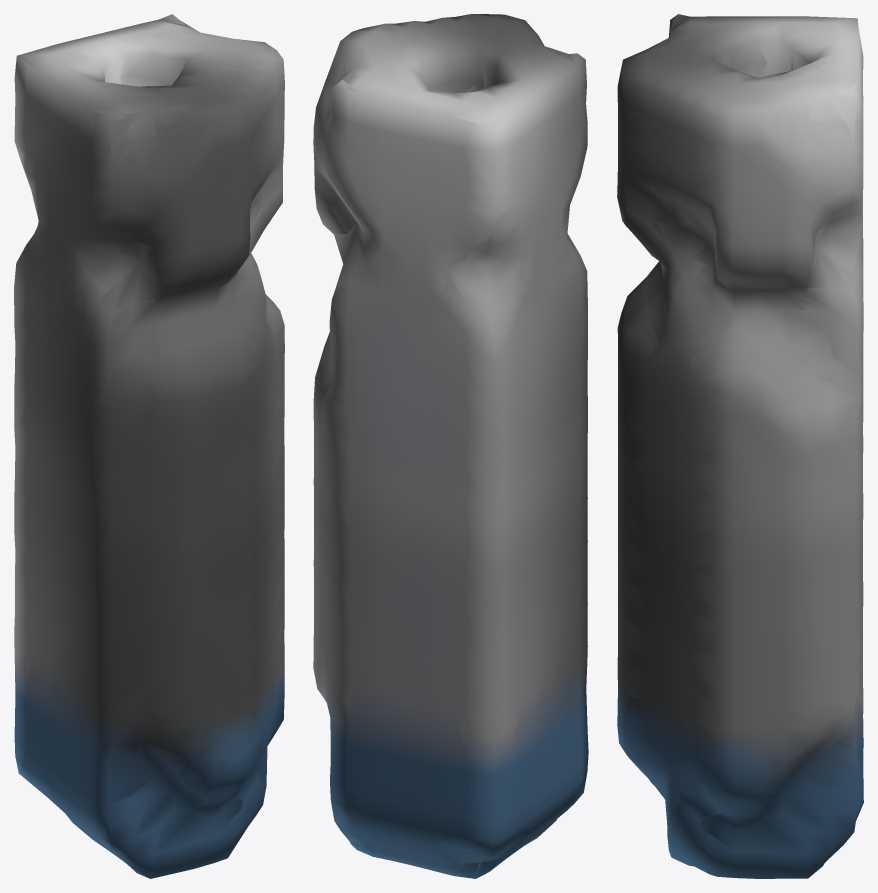
Rendered from kirov_bomb.glb.
3 renders of one model, left to right at view 1: azimuth 30°, elevation 25°; view 2: azimuth 150°, elevation 25°; view 3: azimuth 270°, elevation 25°, orthographic.
Visible parts, largest first — view 1: kirov_bomb; view 2: kirov_bomb; view 3: kirov_bomb.
Part boxes in pixels (x1,y1,x2,y2): kirov_bomb: (14, 14, 284, 878); kirov_bomb: (313, 14, 588, 878); kirov_bomb: (617, 14, 863, 878).
Bounding box in the file's own units: 0.3417 × 1.21 × 0.3417.
